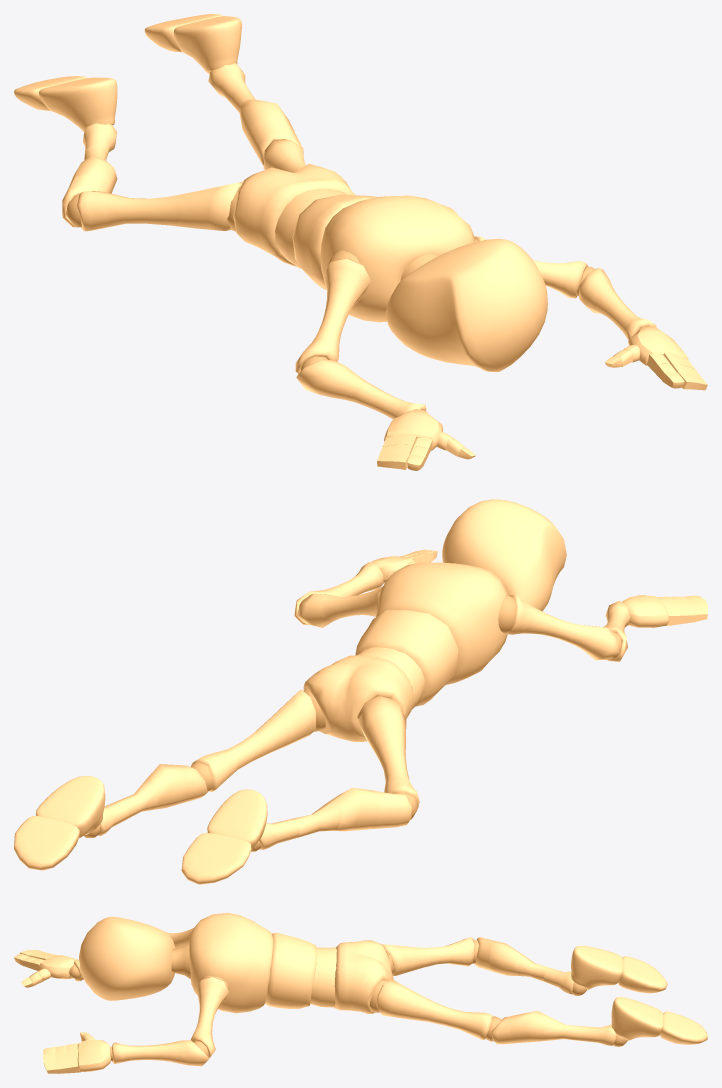
File: body_01.fbx
3 renders of one model, top to bottom at view 1: azimuth 30°, elevation 25°; view 2: azimuth 150°, elevation 25°; view 3: azimuth 270°, elevation 25°, orthographic. The views are drawn at different scales.
Parts seen in each view (by area): view 1: Bony_head, Bony_chest, Bony_R_leg, Bony_R_arm, Bony_pelvis, Bony_L_leg, Bony_L_arm, Bony_R_foot, Bony_L_foot, Bony_spine2, Bony_spine1, Bony_R_hand (+3 smaller); view 2: Bony_head, Bony_chest, Bony_R_leg, Bony_L_leg, Bony_pelvis, Bony_spine2, Bony_R_arm, Bony_L_arm, Bony_L_toe, Bony_L_foot, Bony_R_toe, Bony_R_foot (+2 smaller); view 3: Bony_head, Bony_chest, Bony_L_leg, Bony_R_leg, Bony_L_arm, Bony_pelvis, Bony_spine2, Bony_R_foot, Bony_L_foot, Bony_spine1, Bony_R_toe, Bony_L_toe (+5 smaller).
Boxes of the visible parts, x1,y1,x2,y2 form: Bony_head: (385,238,547,372); Bony_chest: (320,195,474,322); Bony_R_leg: (62,123,242,231); Bony_R_arm: (295,258,426,418); Bony_pelvis: (233,164,354,266); Bony_L_leg: (208,63,305,172); Bony_L_arm: (474,236,656,340); Bony_R_foot: (39,77,117,131); Bony_L_foot: (173,16,241,73); Bony_spine2: (292,194,377,290); Bony_spine1: (275,189,346,268); Bony_R_hand: (384,409,442,450); Bony_head: (442,499,566,611); Bony_chest: (376,562,507,684); Bony_R_leg: (259,698,419,849); Bony_L_leg: (98,689,316,835); Bony_pelvis: (303,655,413,741); Bony_spine2: (355,609,458,706); Bony_R_arm: (507,595,630,661); Bony_L_arm: (294,562,383,627); Bony_L_toe: (14,815,79,870); Bony_L_foot: (36,776,105,837); Bony_R_toe: (181,833,251,884); Bony_R_foot: (207,789,267,849); Bony_head: (79,916,175,1000); Bony_chest: (189,913,273,1013); Bony_L_leg: (376,979,616,1045); Bony_R_leg: (382,937,573,994); Bony_L_arm: (112,976,228,1066); Bony_pelvis: (333,940,393,1013); Bony_spine2: (265,932,317,1008); Bony_R_foot: (571,946,622,989); Bony_L_foot: (611,997,663,1040); Bony_spine1: (310,947,336,1007); Bony_R_toe: (618,956,667,993); Bony_L_toe: (659,1011,707,1044).
Size of the model in its own units: 4.28 by 1.71 by 10.9.
